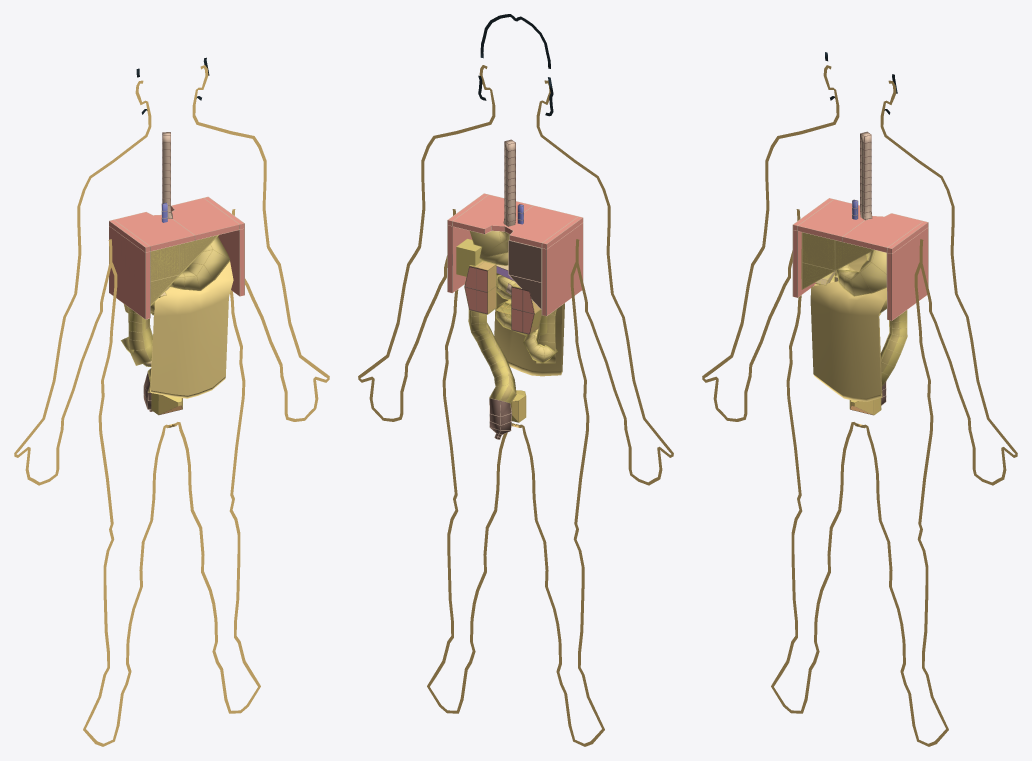
Rendered from abdomen-simplified.glb.
3 renders of one model, left to right at view 1: azimuth 30°, elevation 25°; view 2: azimuth 150°, elevation 25°; view 3: azimuth 330°, elevation 25°, orthographic.
Visible parts, largest first — view 1: Body Outline, Greater Omentum (anterior layer), Diaphragm, Stomach, Peritoneum on the Liver, Liver, Peritoneum on the Stomach, Peritoneum on the Large Bowel, Large Bowel; view 2: Body Outline, Diaphragm, Peritoneum on the Large Bowel, Large Bowel, Greater Omentum (posterior layer), Stomach, Liver, Left Kidney, Right Kidney, Peritoneum on the Stomach, Peritoneum on the Small Bowel, Peritoneum on the Spleen (+3 smaller); view 3: Body Outline, Diaphragm, Greater Omentum (anterior layer), Stomach, Peritoneum on the Liver, Liver, Peritoneum on the Stomach, Peritoneum on the Large Bowel, Large Bowel.
Boxes of the visible parts, x1,y1,x2,y2 form: Body Outline: (14,65,329,746); Greater Omentum (anterior layer): (151,260,233,395); Diaphragm: (109,196,244,319); Stomach: (162,132,229,289); Peritoneum on the Liver: (150,235,218,305); Liver: (151,235,217,304); Peritoneum on the Stomach: (169,237,230,290); Peritoneum on the Large Bowel: (127,302,154,392); Large Bowel: (128,305,154,411); Body Outline: (358,65,673,746); Diaphragm: (447,193,583,316); Peritoneum on the Large Bowel: (468,273,556,411); Large Bowel: (469,310,555,439); Greater Omentum (posterior layer): (494,292,562,376); Stomach: (471,139,515,264); Liver: (508,240,541,309); Left Kidney: (464,261,495,314); Right Kidney: (511,284,541,334); Peritoneum on the Stomach: (470,231,509,265); Peritoneum on the Small Bowel: (495,275,557,363); Peritoneum on the Spleen: (456,238,484,276); Body Outline: (702,65,1017,746); Diaphragm: (792,198,928,320); Greater Omentum (anterior layer): (810,281,886,398); Stomach: (839,131,886,295); Peritoneum on the Liver: (801,232,873,289); Liver: (802,232,872,288); Peritoneum on the Stomach: (838,250,886,296); Peritoneum on the Large Bowel: (831,274,907,386); Large Bowel: (880,300,906,405).
Bounding box in the file's own units: 13.52 × 29.24 × 3.14.
